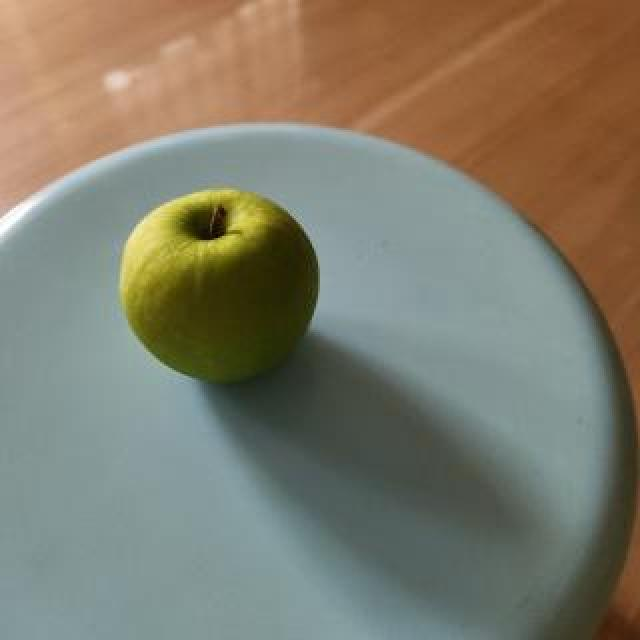Fresh Apple: (104, 187, 318, 375)
